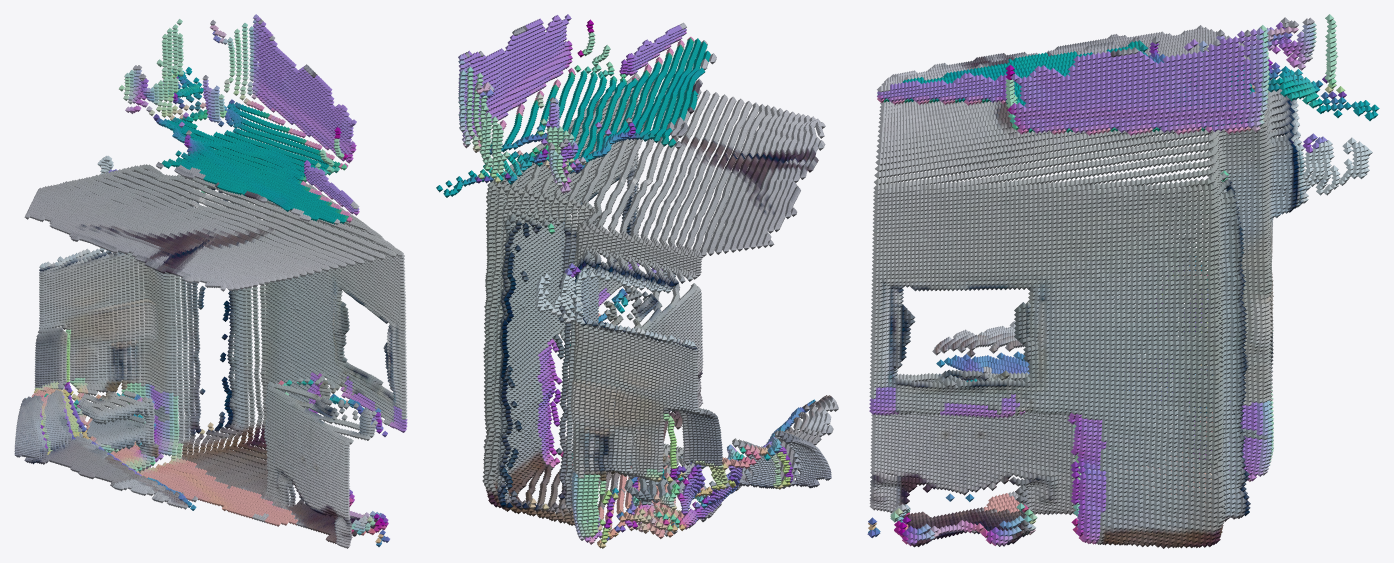
Rendered from combine_gt.glb.
The picture shows the model from 3 angles, left to right: view 1: azimuth 30°, elevation 25°; view 2: azimuth 150°, elevation 25°; view 3: azimuth 270°, elevation 25°; orthographic projection. The views are drawn at different scales.
Parts seen in each view (by area): view 1: world; view 2: world; view 3: world.
Boxes of the visible parts, left/top/right/bottom form: world: left=14, top=14, right=407, bottom=548; world: left=436, top=14, right=838, bottom=548; world: left=867, top=14, right=1379, bottom=548.
Size of the model in its own units: 2.7 by 3.69 by 3.24.
